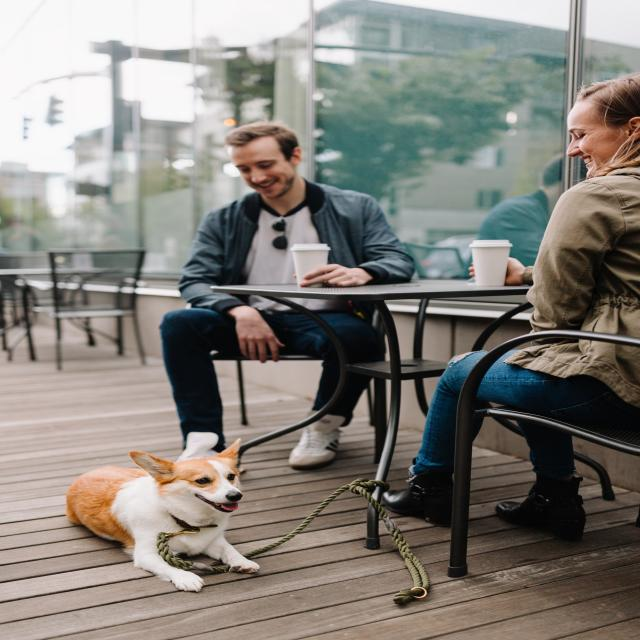nonfall: (406, 63, 640, 513), (178, 112, 376, 454)
